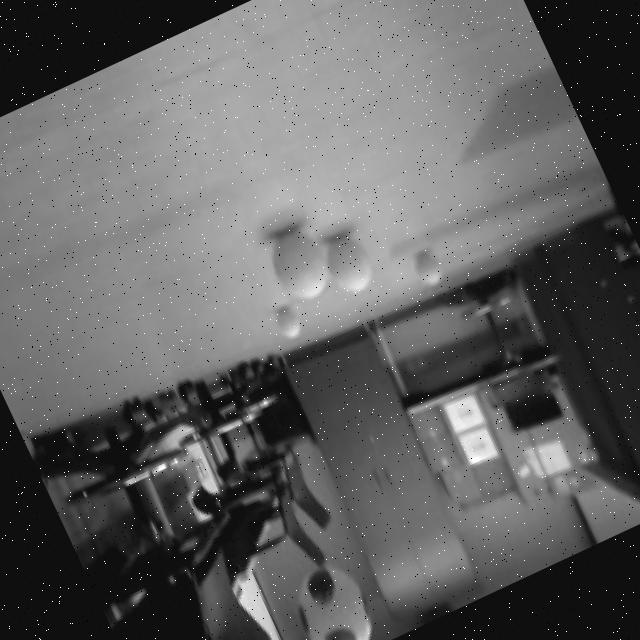ping-pong-ball: (265, 539, 400, 640), (258, 214, 344, 310), (318, 224, 389, 305), (402, 236, 458, 298), (267, 297, 311, 348)
